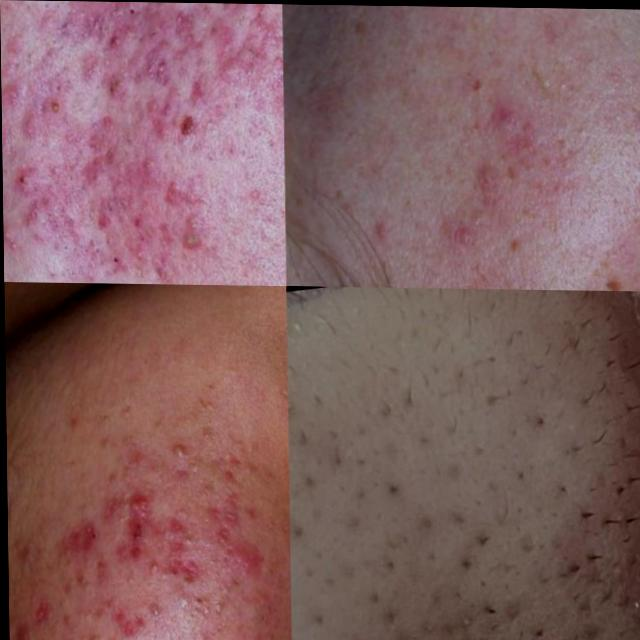8: (469, 59, 534, 146), (451, 151, 513, 207), (627, 102, 640, 146)
9: (164, 223, 207, 264), (157, 429, 192, 472), (3, 155, 37, 193)
blackheads: (112, 508, 203, 563), (67, 514, 106, 567), (137, 48, 178, 95), (107, 12, 157, 48), (226, 540, 268, 580), (118, 485, 157, 526), (104, 605, 145, 640), (90, 67, 129, 101), (8, 612, 43, 640), (169, 14, 196, 50), (95, 1, 141, 20), (82, 623, 110, 640)
dark spot: (399, 614, 549, 640)
